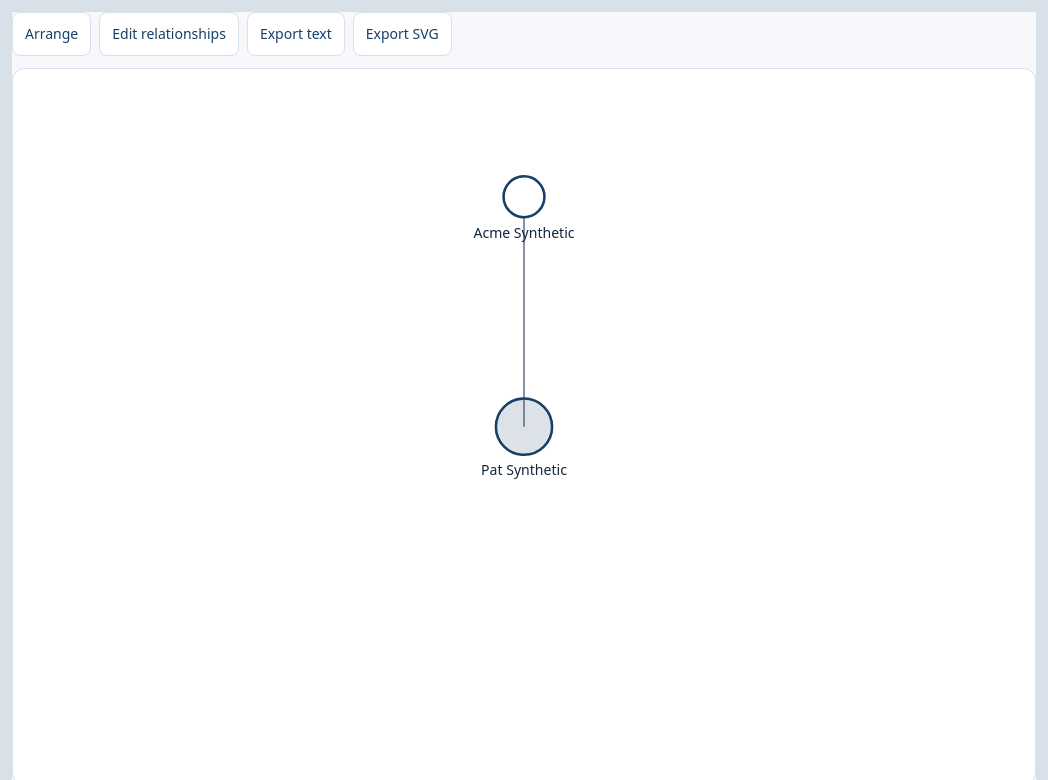
CanvasMapClient › shows the create form in relationship-edit and turns Arrange off
This screenshot has width=1048, height=780.
Click the button with test id "canvas-relationship-edit-toggle".
click(169, 34)  # box [99,12,239,56]
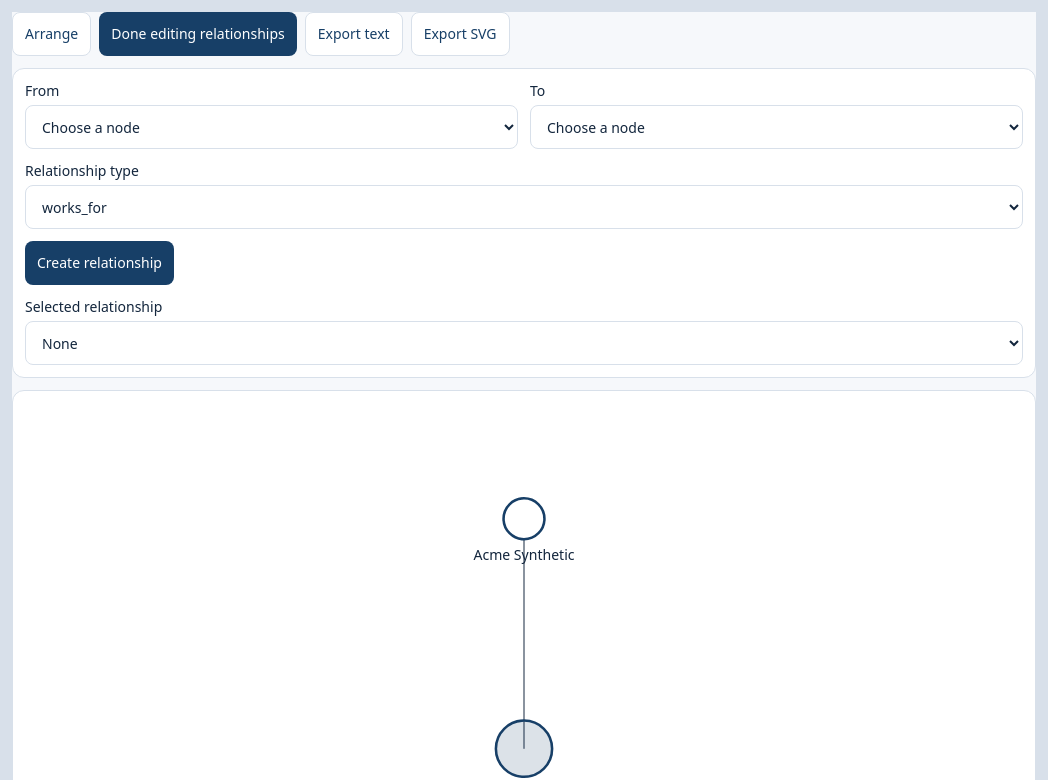
Expected: the link "Pat Synthetic" is not shown
Now the form with test id "canvas-relationship-create-form" is shown, box [25,81,1023,285]
Click the button with test id "canvas-arrange-toggle".
click(52, 34)  # box [12,12,91,56]
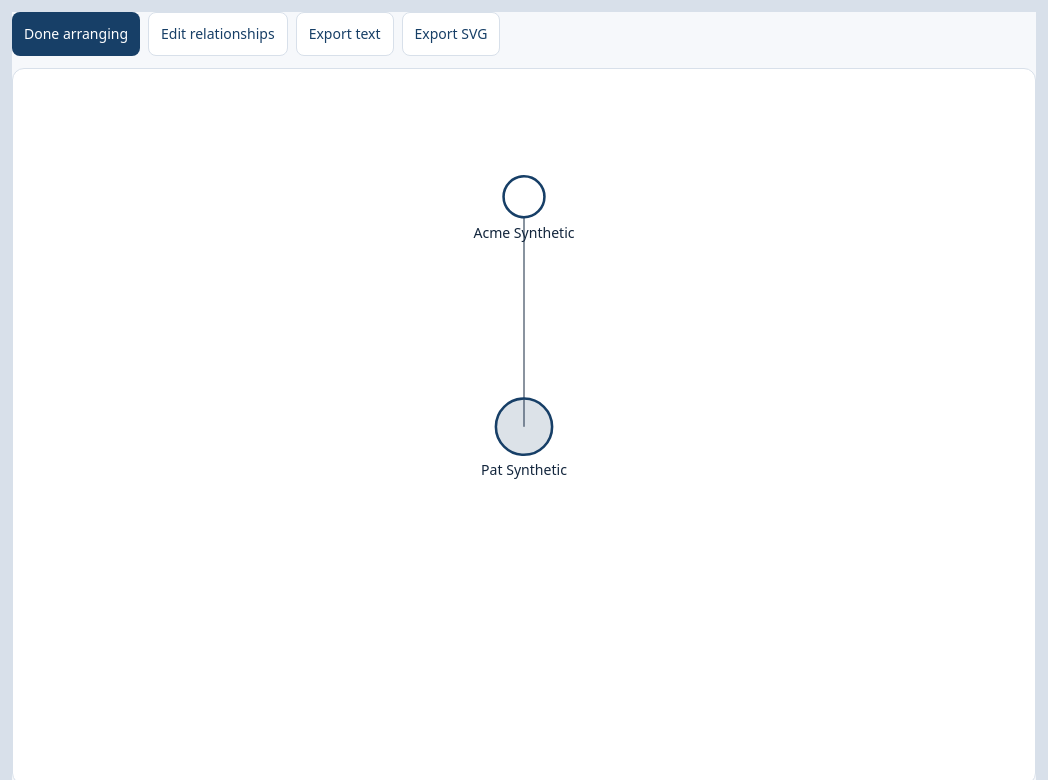
Now the form with test id "canvas-relationship-create-form" is gone
